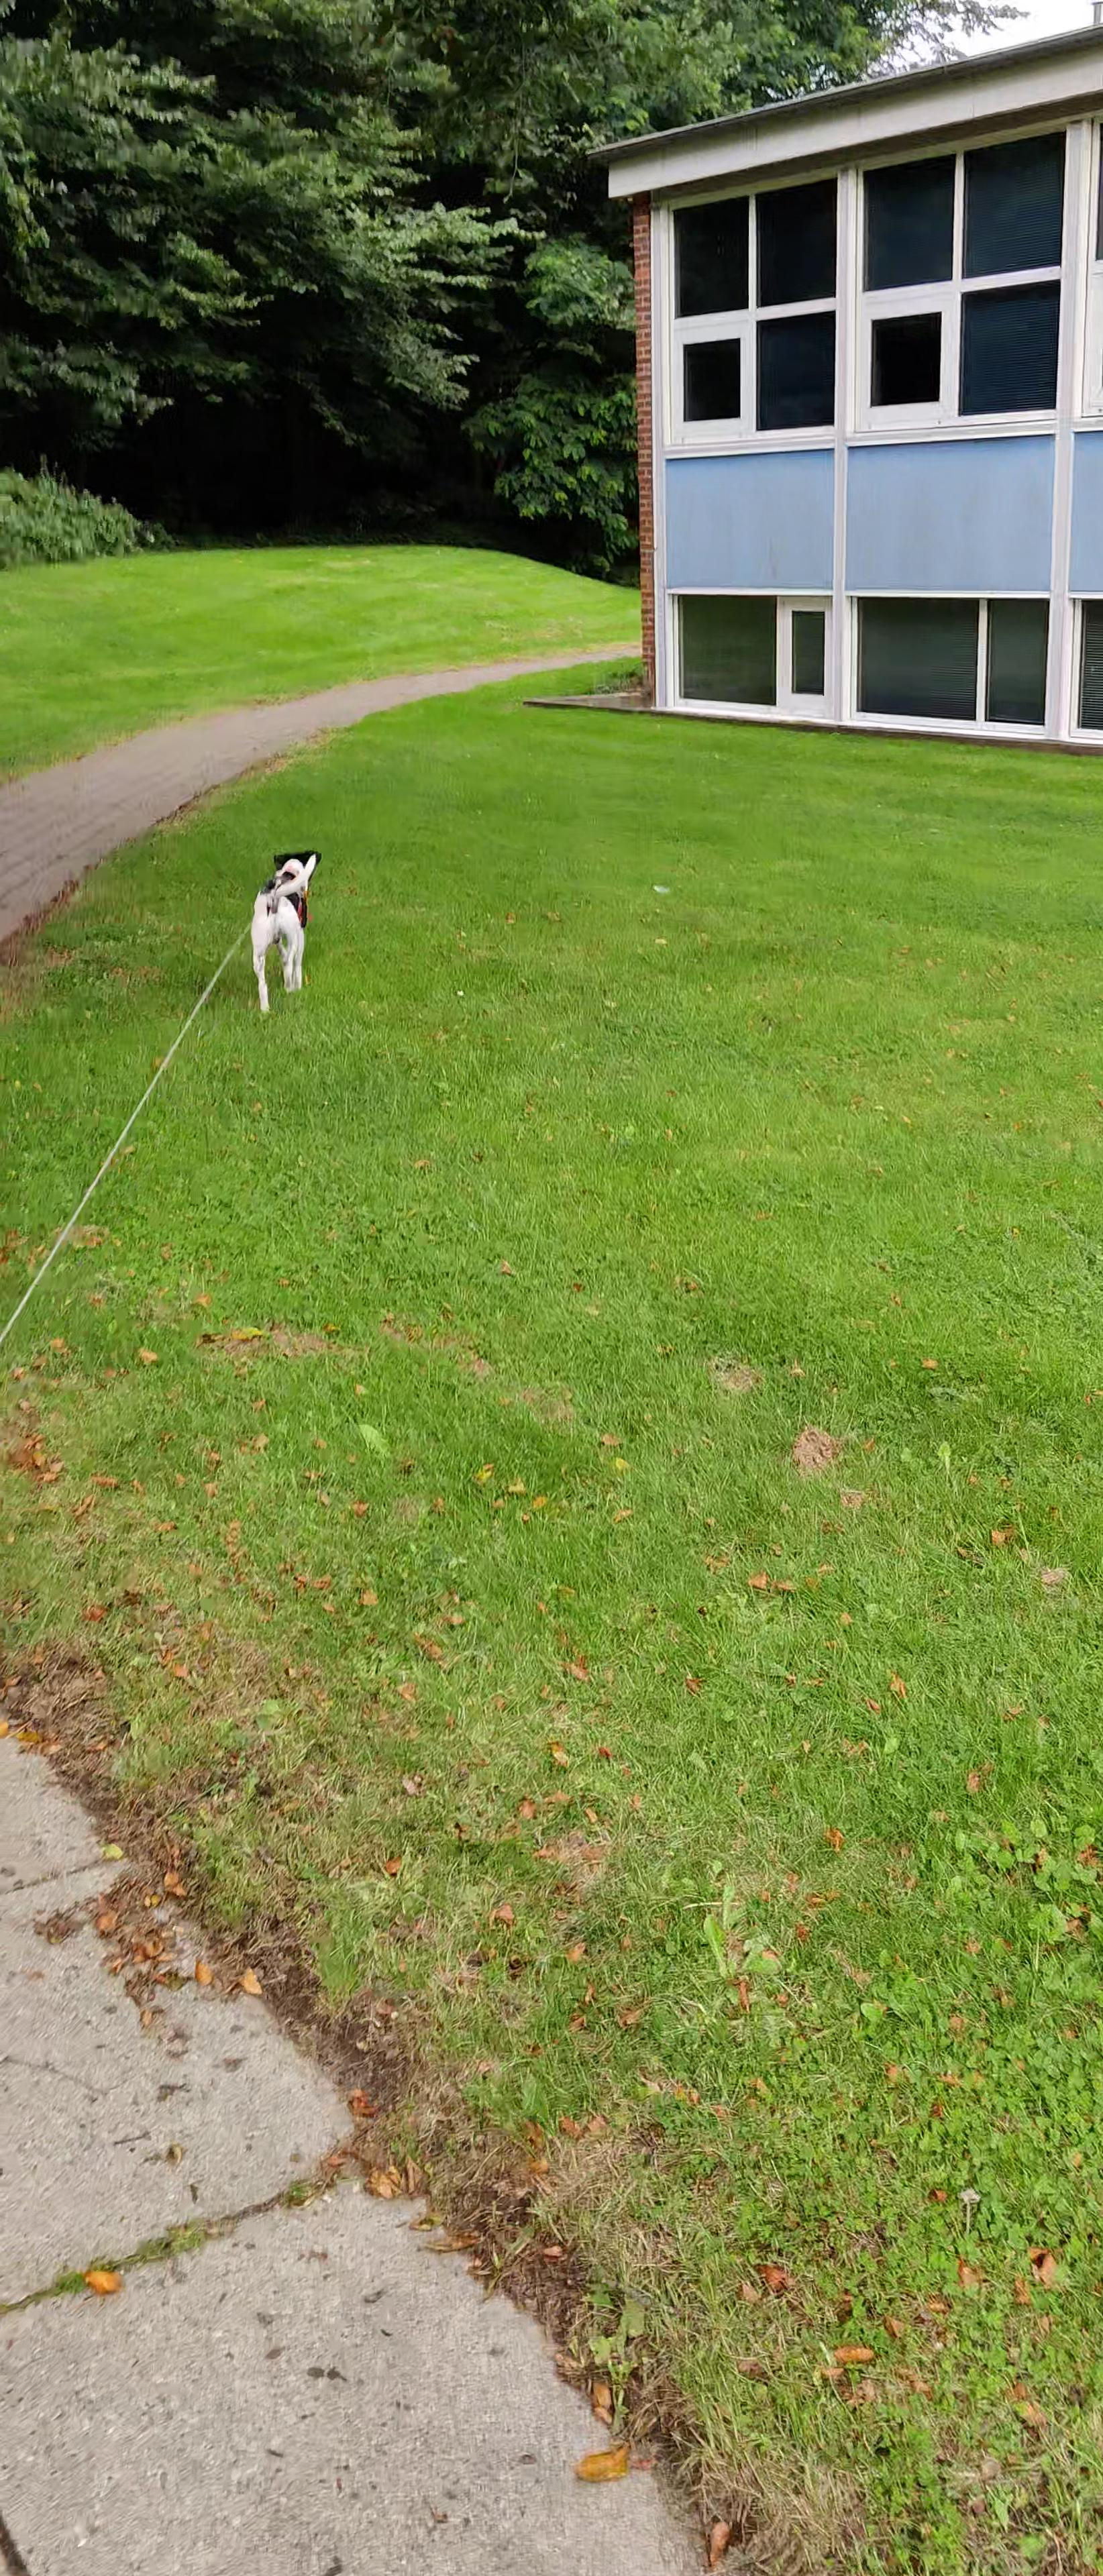Dog: (235, 838, 332, 1022)
